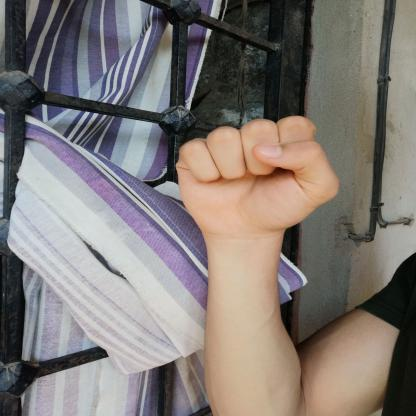SAD: (156, 103, 353, 245)
